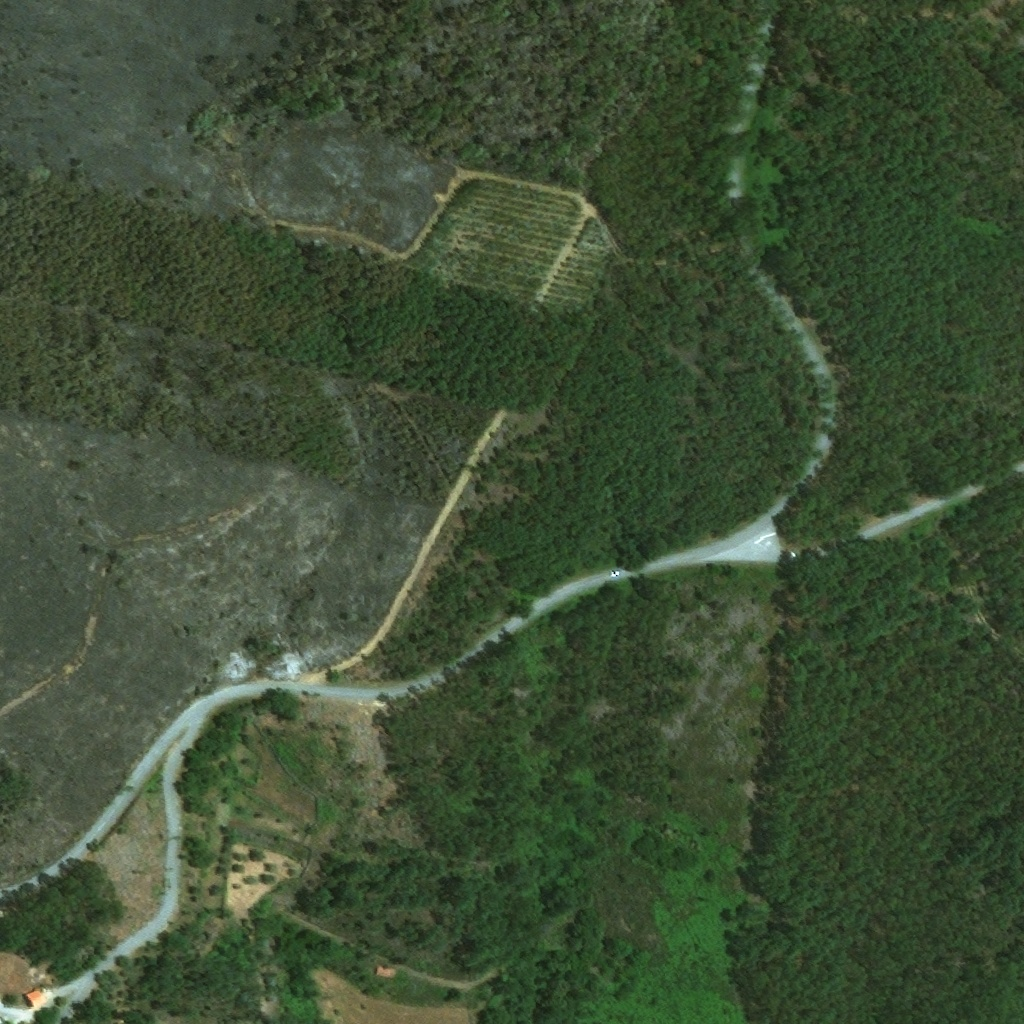0 no-damage: (24, 990, 46, 1008), (376, 968, 392, 977)
